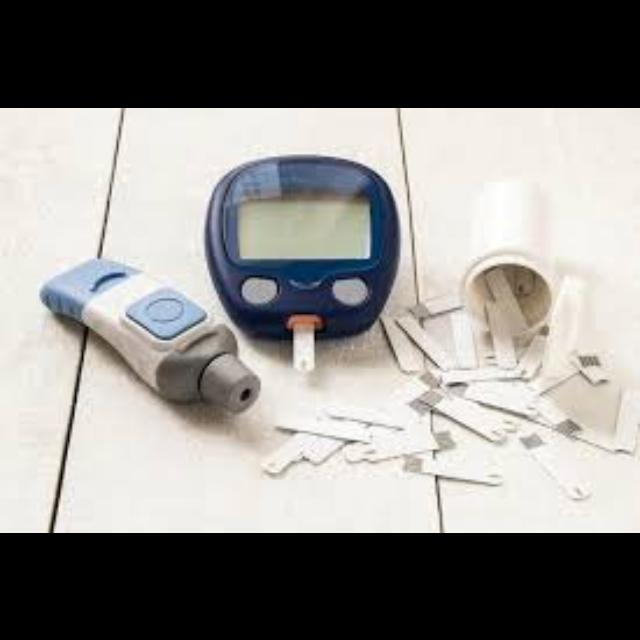Glucose-Meter: (205, 160, 400, 369)
